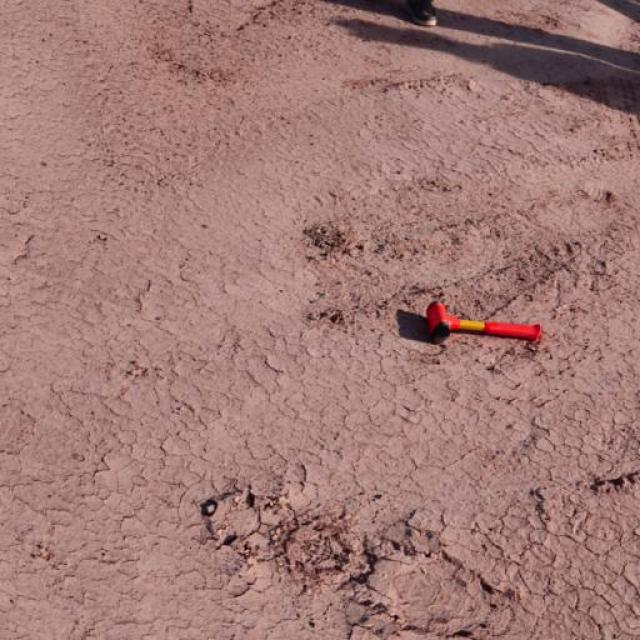mallet: (423, 298, 542, 344)
